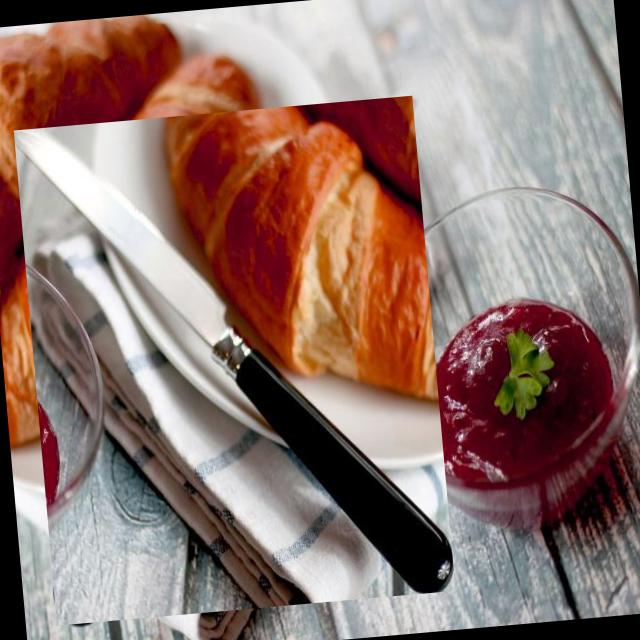Knife: (14, 129, 452, 593)
